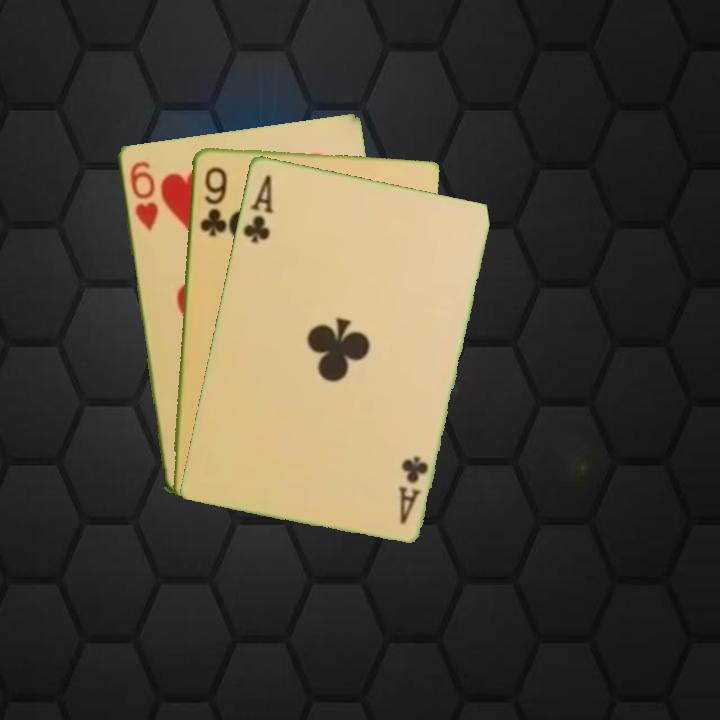6h: (126, 157, 161, 234)
9c: (196, 162, 229, 239)
Ac: (239, 170, 276, 246), (394, 452, 431, 526)
